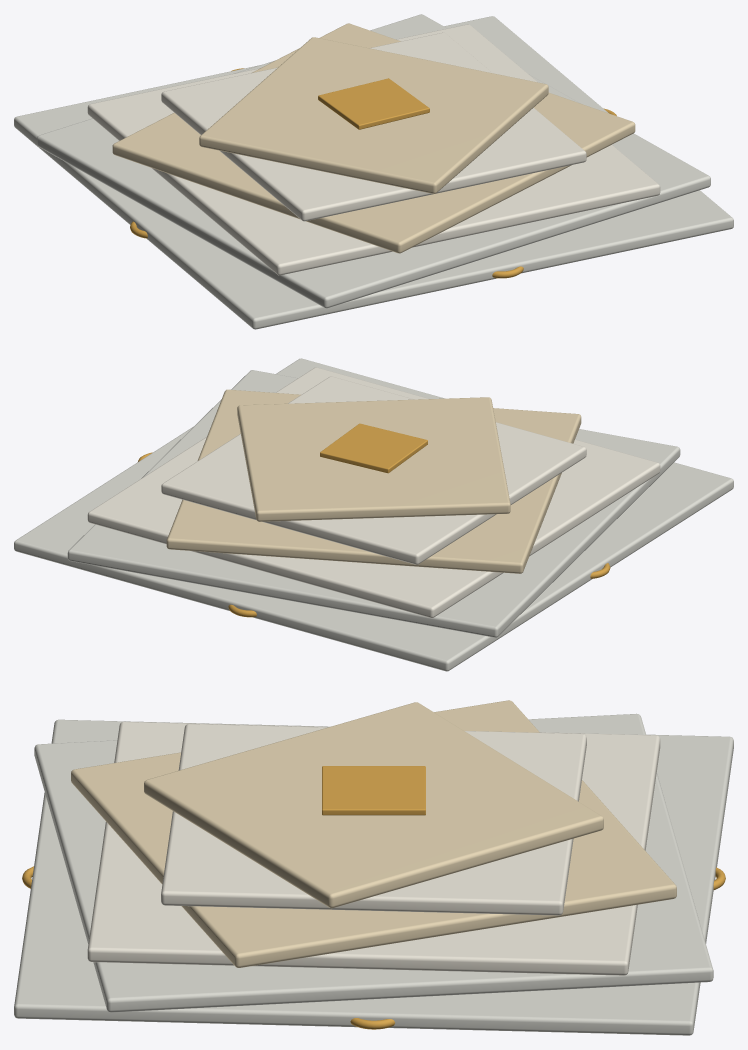
The model's file is game_parachute.glb.
The picture shows the model from 3 angles, top to bottom: view 1: azimuth 30°, elevation 25°; view 2: azimuth 150°, elevation 25°; view 3: azimuth 270°, elevation 25°; orthographic projection. The views are drawn at different scales.
Parts seen in each view (by area): view 1: Tint.047, Folded chute.005, Folded chute.002, Folded chute.003, Folded chute.004, Chute strap; view 2: Tint.047, Folded chute.005, Folded chute.002, Folded chute.003, Folded chute.004, Chute strap; view 3: Tint.047, Folded chute.005, Folded chute.002, Folded chute.003, Folded chute.004, Chute strap.
Part boxes in pixels (bbox=[...]): Tint.047: bbox=[14, 14, 733, 329]; Folded chute.005: bbox=[199, 37, 548, 193]; Folded chute.002: bbox=[87, 24, 660, 275]; Folded chute.003: bbox=[112, 23, 635, 253]; Folded chute.004: bbox=[161, 32, 586, 221]; Chute strap: bbox=[318, 78, 429, 129]; Tint.047: bbox=[14, 358, 733, 671]; Folded chute.005: bbox=[237, 397, 510, 521]; Folded chute.002: bbox=[87, 367, 660, 617]; Folded chute.003: bbox=[166, 389, 581, 573]; Folded chute.004: bbox=[161, 376, 586, 564]; Chute strap: bbox=[320, 423, 427, 473]; Tint.047: bbox=[14, 713, 733, 1035]; Folded chute.005: bbox=[144, 702, 603, 908]; Folded chute.002: bbox=[87, 721, 660, 975]; Folded chute.003: bbox=[71, 700, 676, 967]; Folded chute.004: bbox=[161, 724, 586, 915]; Chute strap: bbox=[322, 766, 425, 815].
Size of the model in its own units: 2.07 by 0.309 by 2.07.
